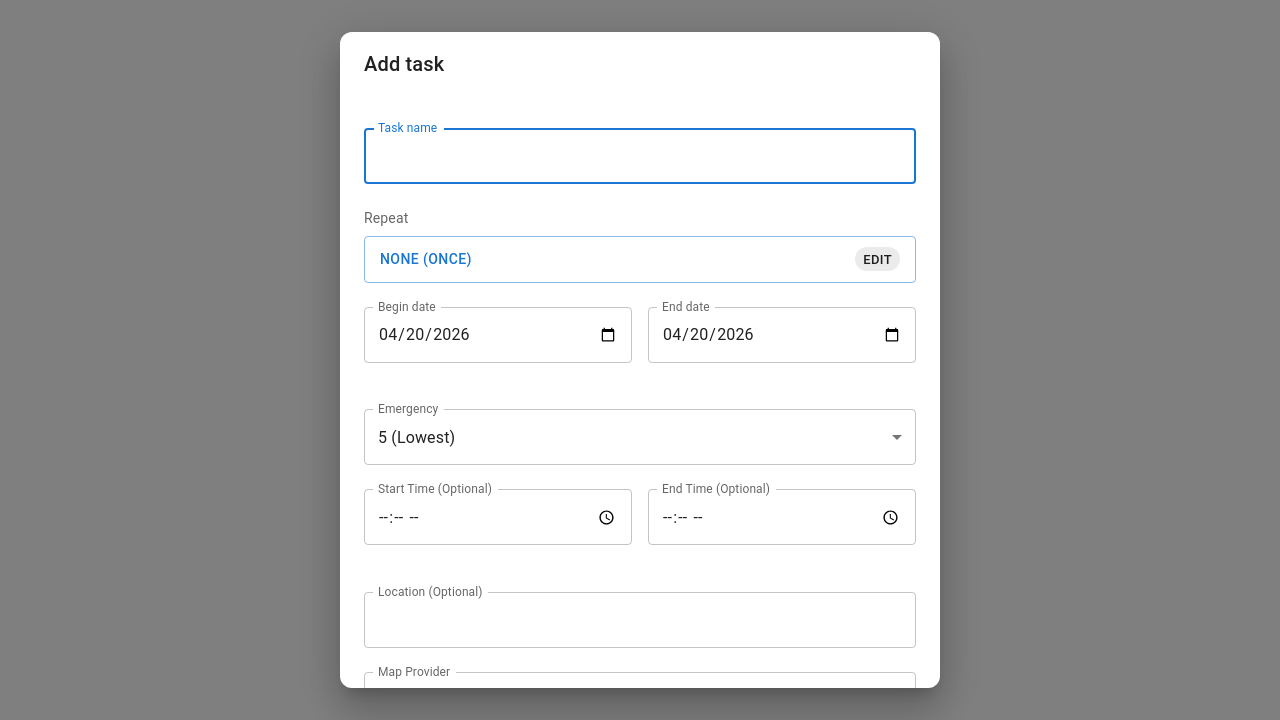
Test: TaskDialog behavior › blocks saving when end date is earlier than begin date
Type "Trip" into the field labelled "Task name" at (640, 156), box [364,128,916,184]
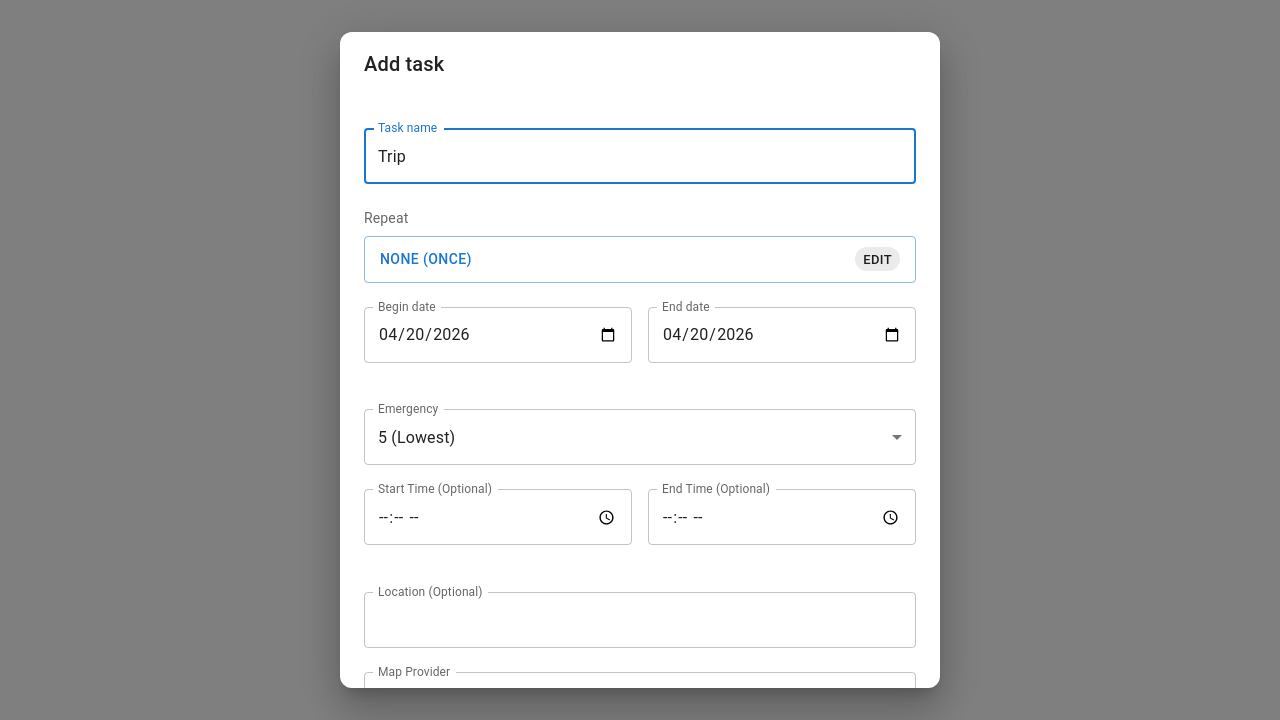
Type "2026-04-19" into the date field labelled "End date" at (782, 334), box [648,306,916,362]
(page scrolled)
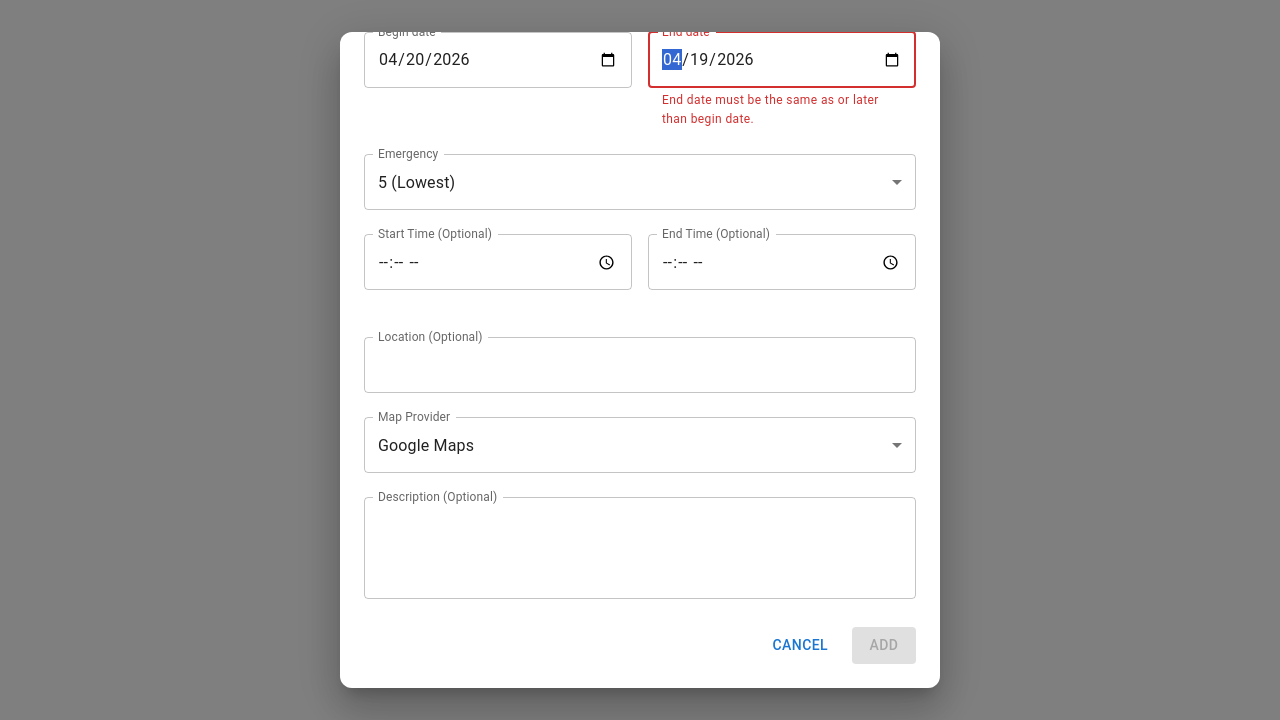
Check: the button "Add" is disabled, box [852,627,916,664]
Check: the text "End date must be the same as or later than begin date." is shown, box [662,90,902,130]
